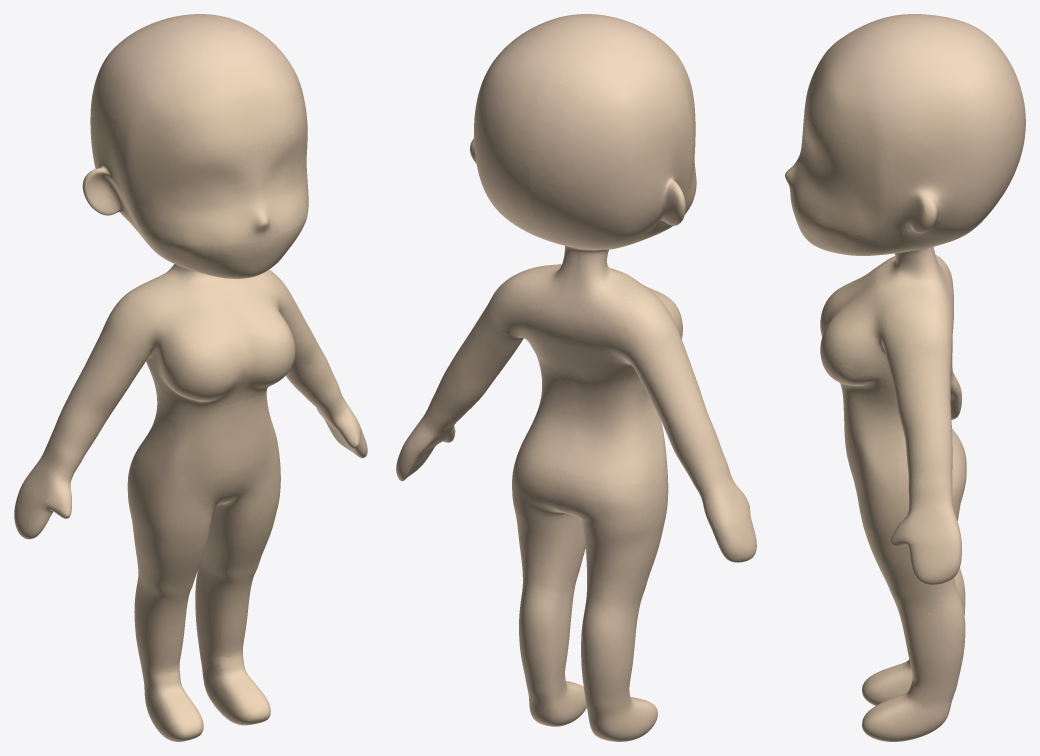
The model's file is char_yeoja_base_v3.glb.
The picture shows the model from 3 angles, left to right: view 1: azimuth 30°, elevation 25°; view 2: azimuth 150°, elevation 25°; view 3: azimuth 270°, elevation 25°; orthographic projection. The views are drawn at different scales.
Bounding box in the file's own units: 0.9841 × 1.9 × 0.5951.
1 material, 1 textured.
